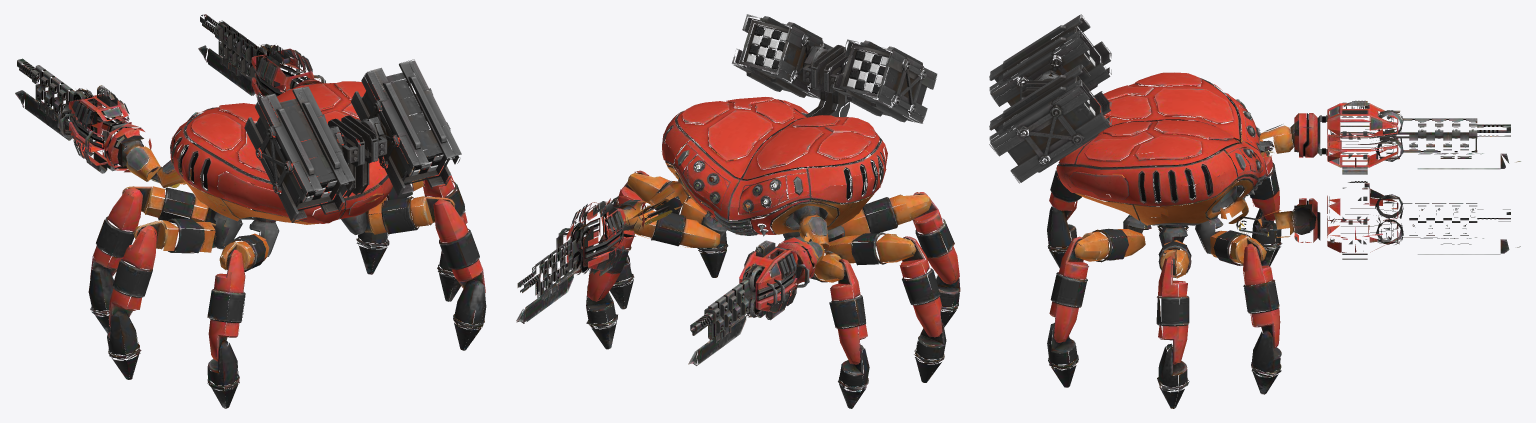
File: crab-boss.glb
3 renders of one model, left to right at view 1: azimuth 30°, elevation 25°; view 2: azimuth 150°, elevation 25°; view 3: azimuth 270°, elevation 25°, orthographic. The views are drawn at different scales.
Visible parts, largest first — view 1: crab_body, crab_armL, crab_legL1, crab_legR2, crab_legL2, crab_legL0, crab_armR, crab_legR1, crab_legR0; view 2: crab_body, crab_armL, crab_armR, crab_legL1, crab_legR0, crab_legL2, crab_legL0, crab_legR1, crab_legR2; view 3: crab_body, crab_armL, crab_legR0, crab_legR2, crab_armR, crab_legR1, crab_legL0, crab_legL2.
Boxes of the visible parts, bbox=[...] form: crab_body: bbox=[170, 59, 461, 224]; crab_armL: bbox=[15, 58, 209, 187]; crab_legL1: bbox=[107, 197, 266, 379]; crab_legR2: bbox=[341, 195, 486, 350]; crab_legL2: bbox=[207, 213, 279, 408]; crab_legL0: bbox=[88, 172, 237, 333]; crab_armR: bbox=[198, 14, 338, 141]; crab_legR1: bbox=[358, 156, 468, 301]; crab_legR0: bbox=[306, 169, 389, 274]; crab_body: bbox=[661, 14, 937, 236]; crab_armL: bbox=[688, 199, 829, 365]; crab_armR: bbox=[516, 174, 704, 323]; crab_legL1: bbox=[813, 199, 946, 382]; crab_legR0: bbox=[586, 184, 730, 349]; crab_legL2: bbox=[844, 192, 960, 327]; crab_legL0: bbox=[783, 215, 869, 408]; crab_legR1: bbox=[607, 170, 757, 309]; crab_legR2: bbox=[697, 148, 763, 277]; crab_body: bbox=[989, 14, 1266, 225]; crab_armL: bbox=[1210, 100, 1520, 174]; crab_legR0: bbox=[1181, 195, 1281, 394]; crab_legR2: bbox=[1047, 204, 1144, 387]; crab_armR: bbox=[1217, 181, 1520, 259]; crab_legR1: bbox=[1124, 193, 1191, 408]; crab_legL0: bbox=[1182, 140, 1282, 267]; crab_legL2: bbox=[1047, 159, 1146, 267].
Size of the model in its own units: 10.47 by 8.26 by 14.04.
Materials: 4 (4 with a texture image).
